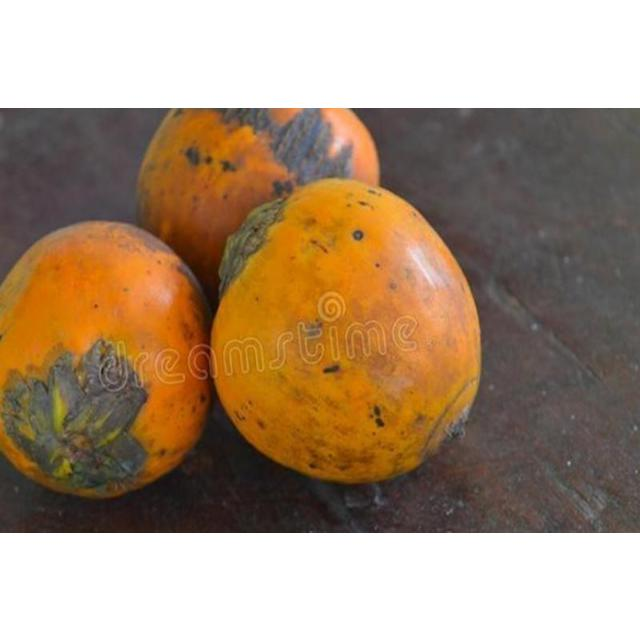good: (210, 178, 482, 485), (0, 221, 215, 502), (135, 107, 381, 305)
